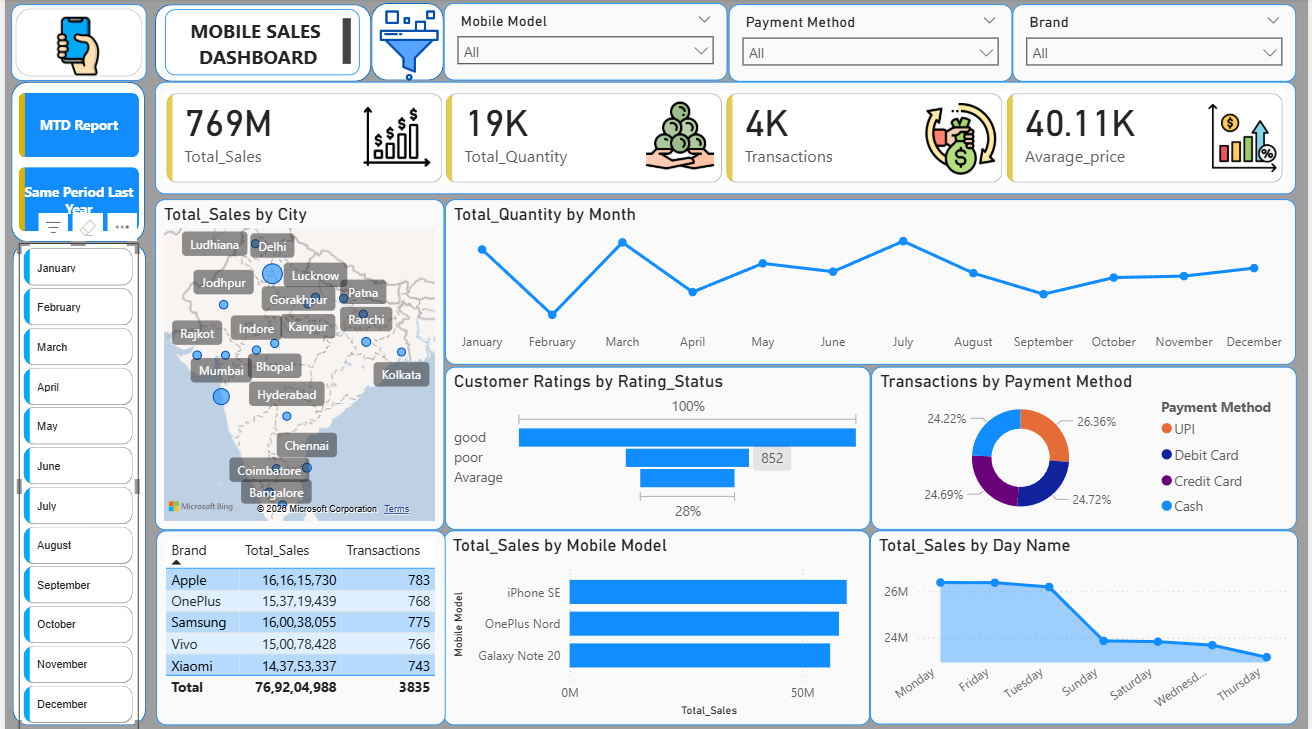

This screenshot's page, from the dashboard's own definition file:
{"tool":"powerbi","page":{"name":"Dashboard","canvas":[1280,720],"ordinal":0},"visuals":[{"type":"shape","box":[6.2,6.2,132.5,75],"z":0},{"type":"image","box":[35,18.8,75,57.5],"z":1000},{"type":"shape","box":[6.2,82.5,131.2,157.5],"z":2000},{"type":"shape","box":[7.5,240,131.2,473.8],"z":3000},{"type":"advancedSlicerVisual","fields":{"Values":["custom_calender.Date.Variation.Date Hierarchy.Month"]},"box":[13.8,240,117.5,480],"z":4000},{"type":"cardVisual","fields":{"Data":["sales_data.Total_Sales","sales_data.Total_Quantity","sales_data.Transactions","sales_data.Avarage_price"]},"box":[147.5,82.5,1120,110],"z":5000},{"type":"image","box":[337.5,100,93.8,73.8],"z":6000},{"type":"image","box":[616.2,100,93.8,71.2],"z":7000},{"type":"image","box":[900,102.5,77.5,70],"z":8000},{"type":"image","box":[1178.8,101.2,71.2,71.2],"z":9000},{"type":"slicer","fields":{"Values":["sales_data.Mobile Model"]},"box":[431.2,5,278.8,76.2],"z":10000},{"type":"slicer","fields":{"Values":["sales_data.Payment Method"]},"box":[710,6.2,278.8,76.2],"z":11000},{"type":"slicer","fields":{"Values":["sales_data.Brand"]},"box":[988.8,6.2,278.8,76.2],"z":12000},{"type":"shape","box":[360,5,71.2,76.2],"z":13000},{"type":"image","box":[360,11.2,75,71.2],"z":14000},{"type":"shape","box":[147.2,6.1,212.3,76.1],"z":15000},{"type":"textbox","box":[157.5,11.2,191.2,65],"z":16000},{"type":"map","fields":{"Category":["sales_data.City"],"Size":["sales_data.Total_Sales"]},"box":[147.5,197.5,283.8,325],"z":17000},{"type":"lineChart","fields":{"Category":["custom_calender.Date.Variation.Date Hierarchy.Month"],"Y":["sales_data.Total_Quantity"]},"box":[432.5,197.5,835,162.5],"z":18000},{"type":"funnel","title":" Customer Ratings by Rating_Status","fields":{"Category":["sales_data.Rating_Status"],"Y":["CountNonNull(sales_data.Customer Ratings)"]},"box":[432.5,362.5,417.5,160],"z":19000},{"type":"donutChart","fields":{"Y":["sales_data.Transactions"],"Category":["sales_data.Payment Method"]},"box":[850,362.5,417.5,160],"z":20000},{"type":"clusteredBarChart","fields":{"Y":["sales_data.Total_Sales"],"Category":["sales_data.Mobile Model"]},"box":[431.2,522.5,418.8,191.2],"z":21000},{"type":"areaChart","fields":{"Category":["custom_calender.Day Name"],"Y":["sales_data.Total_Sales"]},"box":[849.4,522.8,419.9,190.7],"z":22000},{"type":"tableEx","fields":{"Values":["sales_data.Brand","sales_data.Total_Sales","sales_data.Transactions"]},"box":[148,523,284,191],"z":23000},{"type":"pageNavigator","box":[13.7,93.3,118,137.2],"z":24000}]}

Visuals, with their boxes in screenshot pixels (x1, y1, x2, y2), scaled from the page's 1280x720 canvas onto the 1312x729 screenshot:
shape: box=[6, 6, 142, 82]
image: box=[36, 19, 113, 77]
shape: box=[6, 84, 141, 243]
shape: box=[8, 243, 142, 723]
advancedSlicerVisual - custom_calender.Date.Variation.Date Hierarchy.Month: box=[14, 243, 135, 728]
cardVisual - sales_data.Total_Sales x sales_data.Total_Quantity: box=[151, 84, 1299, 195]
image: box=[346, 101, 442, 176]
image: box=[632, 101, 728, 173]
image: box=[922, 104, 1002, 175]
image: box=[1208, 102, 1281, 175]
slicer - sales_data.Mobile Model: box=[442, 5, 728, 82]
slicer - sales_data.Payment Method: box=[728, 6, 1014, 83]
slicer - sales_data.Brand: box=[1014, 6, 1299, 83]
shape: box=[369, 5, 442, 82]
image: box=[369, 11, 446, 83]
shape: box=[151, 6, 368, 83]
textbox: box=[161, 11, 357, 77]
map - sales_data.City x sales_data.Total_Sales: box=[151, 200, 442, 529]
lineChart - custom_calender.Date.Variation.Date Hierarchy.Month x sales_data.Total_Quantity: box=[443, 200, 1299, 364]
" Customer Ratings by Rating_Status" funnel: box=[443, 367, 871, 529]
donutChart - sales_data.Transactions x sales_data.Payment Method: box=[871, 367, 1299, 529]
clusteredBarChart - sales_data.Total_Sales x sales_data.Mobile Model: box=[442, 529, 871, 723]
areaChart - custom_calender.Day Name x sales_data.Total_Sales: box=[871, 529, 1301, 722]
tableEx - sales_data.Brand x sales_data.Total_Sales: box=[152, 530, 443, 723]
pageNavigator: box=[14, 94, 135, 233]
